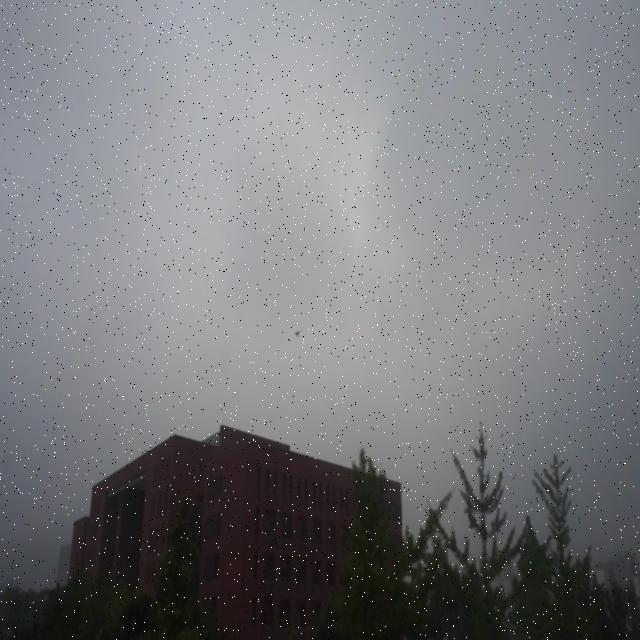UAV: (293, 330, 301, 337)
